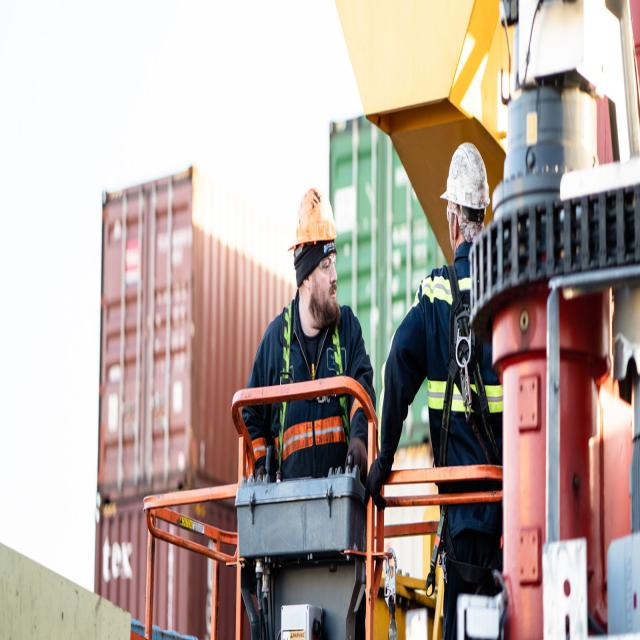Reflective-Jacket: (418, 245, 504, 437), (270, 302, 358, 476)
Safety-Helmet: (286, 178, 338, 259), (439, 137, 492, 214)
